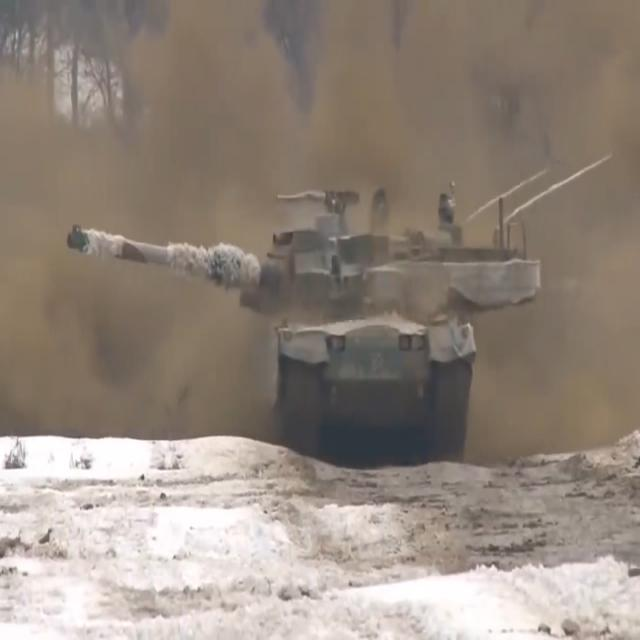korea tank: (65, 185, 543, 467)
